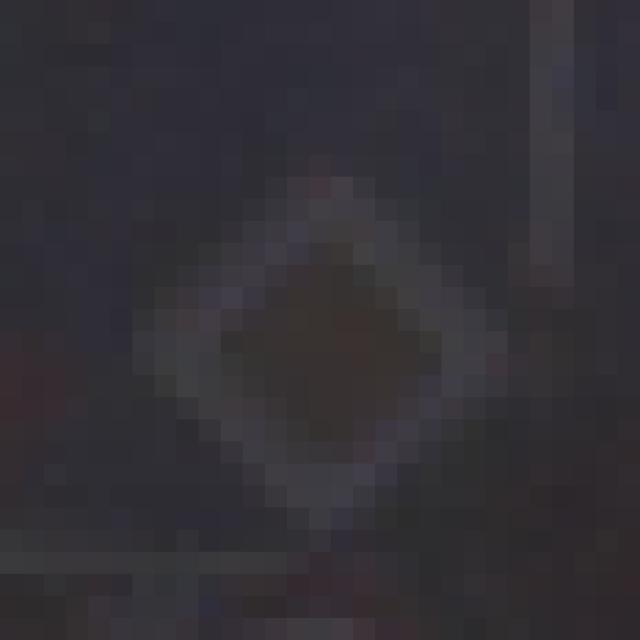Main Road: (112, 134, 509, 531)
